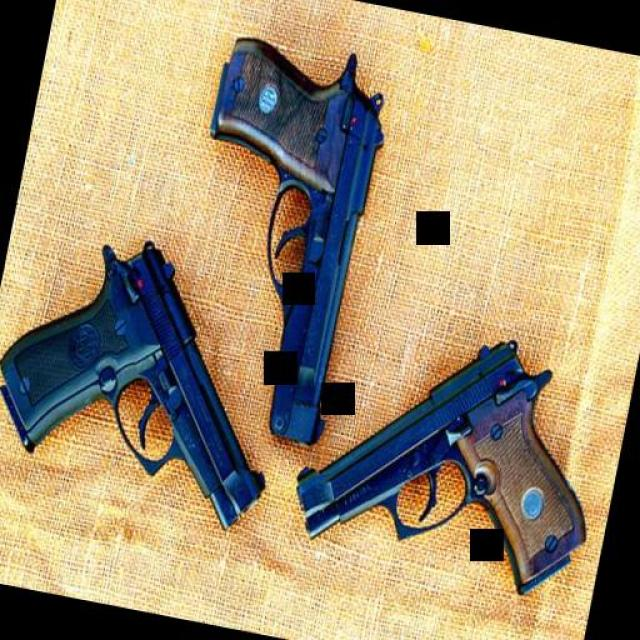gun: (276, 298, 622, 626), (148, 30, 398, 450), (0, 211, 304, 539)
